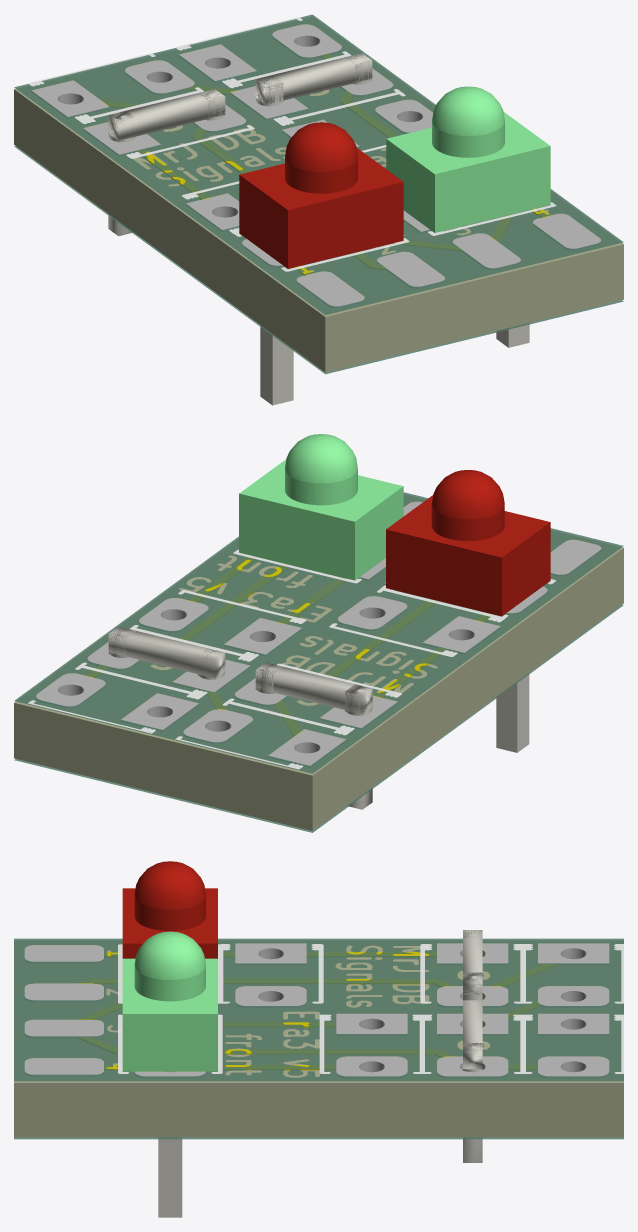
File: MrJ-DB-Era3-prod-bloc-Hp1.glb
3 renders of one model, top to bottom at view 1: azimuth 30°, elevation 25°; view 2: azimuth 150°, elevation 25°; view 3: azimuth 270°, elevation 25°, orthographic. The views are drawn at different scales.
Visible parts, largest first — view 1: =>[0:1:1:13], =>[0:1:1:11], =>[0:1:1:7], =>[0:1:1:9], =>[0:1:1:3], =>[0:1:1:5] (×2), =>[0:1:1:10], =>[0:1:1:8], =>[0:1:1:12]; view 2: =>[0:1:1:13], =>[0:1:1:11], =>[0:1:1:7], =>[0:1:1:9], =>[0:1:1:3], =>[0:1:1:5] (×2), =>[0:1:1:10], =>[0:1:1:8], =>[0:1:1:12]; view 3: =>[0:1:1:13], =>[0:1:1:11], =>[0:1:1:9], =>[0:1:1:3], =>[0:1:1:7], =>[0:1:1:8], =>[0:1:1:10], =>[0:1:1:5] (×2), =>[0:1:1:12].
Boxes of the visible parts, x1=… form: =>[0:1:1:13]: x1=14, y1=17, x2=623, y2=372; =>[0:1:1:11]: x1=14, y1=14, x2=623, y2=314; =>[0:1:1:7]: x1=239, y1=122, x2=403, y2=405; =>[0:1:1:9]: x1=32, y1=24, x2=600, y2=307; =>[0:1:1:3]: x1=386, y1=86, x2=550, y2=347; =>[0:1:1:5] (×2): x1=108, y1=53, x2=372, y2=236; =>[0:1:1:10]: x1=28, y1=17, x2=556, y2=271; =>[0:1:1:8]: x1=101, y1=54, x2=550, y2=275; =>[0:1:1:12]: x1=14, y1=146, x2=623, y2=374; =>[0:1:1:13]: x1=14, y1=495, x2=623, y2=830; =>[0:1:1:11]: x1=14, y1=492, x2=623, y2=773; =>[0:1:1:7]: x1=386, y1=470, x2=550, y2=752; =>[0:1:1:9]: x1=36, y1=502, x2=601, y2=766; =>[0:1:1:3]: x1=239, y1=434, x2=403, y2=580; =>[0:1:1:5] (×2): x1=108, y1=626, x2=372, y2=809; =>[0:1:1:10]: x1=28, y1=549, x2=555, y2=769; =>[0:1:1:8]: x1=85, y1=557, x2=489, y2=736; =>[0:1:1:12]: x1=14, y1=604, x2=623, y2=832; =>[0:1:1:13]: x1=14, y1=941, x2=623, y2=1137; =>[0:1:1:11]: x1=14, y1=938, x2=623, y2=1081; =>[0:1:1:9]: x1=24, y1=943, x2=609, y2=1077; =>[0:1:1:3]: x1=122, y1=931, x2=217, y2=1217; =>[0:1:1:7]: x1=122, y1=861, x2=217, y2=958; =>[0:1:1:8]: x1=78, y1=952, x2=555, y2=1070; =>[0:1:1:10]: x1=118, y1=944, x2=623, y2=1073; =>[0:1:1:5] (×2): x1=463, y1=930, x2=482, y2=1162; =>[0:1:1:12]: x1=14, y1=1137, x2=623, y2=1139.
Size of the model in its own units: 0.00851 by 0.0071 by 0.0154.
